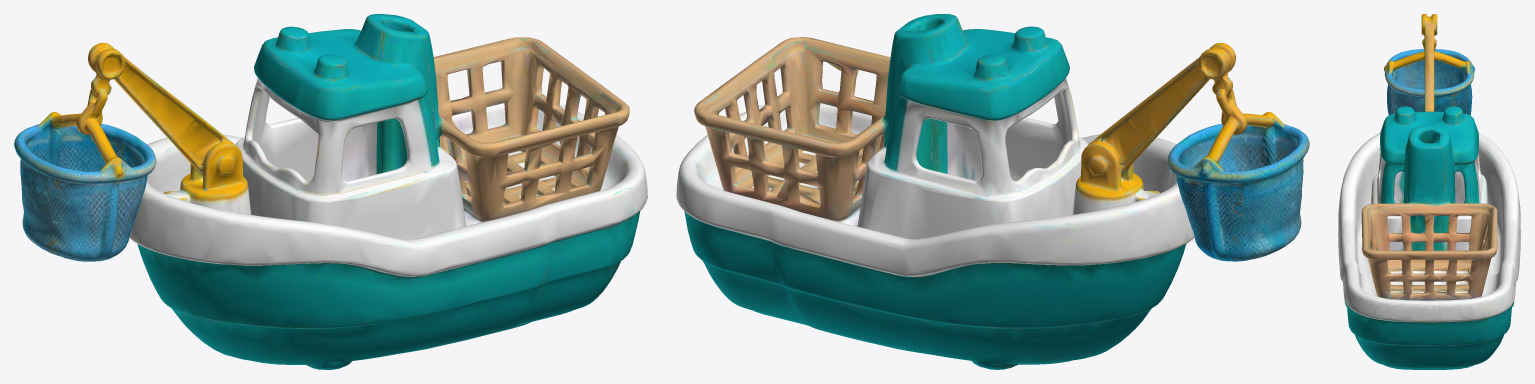
3 views of the same model, side by side, from view 1: azimuth 30°, elevation 25°; view 2: azimuth 150°, elevation 25°; view 3: azimuth 270°, elevation 25° (orthographic). The views are drawn at different scales.
Visible parts, largest first — view 1: Mesh_0; view 2: Mesh_0; view 3: Mesh_0.
Boxes of the visible parts, x1,y1,x2,y2 form: Mesh_0: (14,14,647,369); Mesh_0: (676,14,1309,369); Mesh_0: (1338,14,1520,369).
Size of the model in its own units: 1.9 by 1.07 by 0.8064.
1 material, 1 textured.
